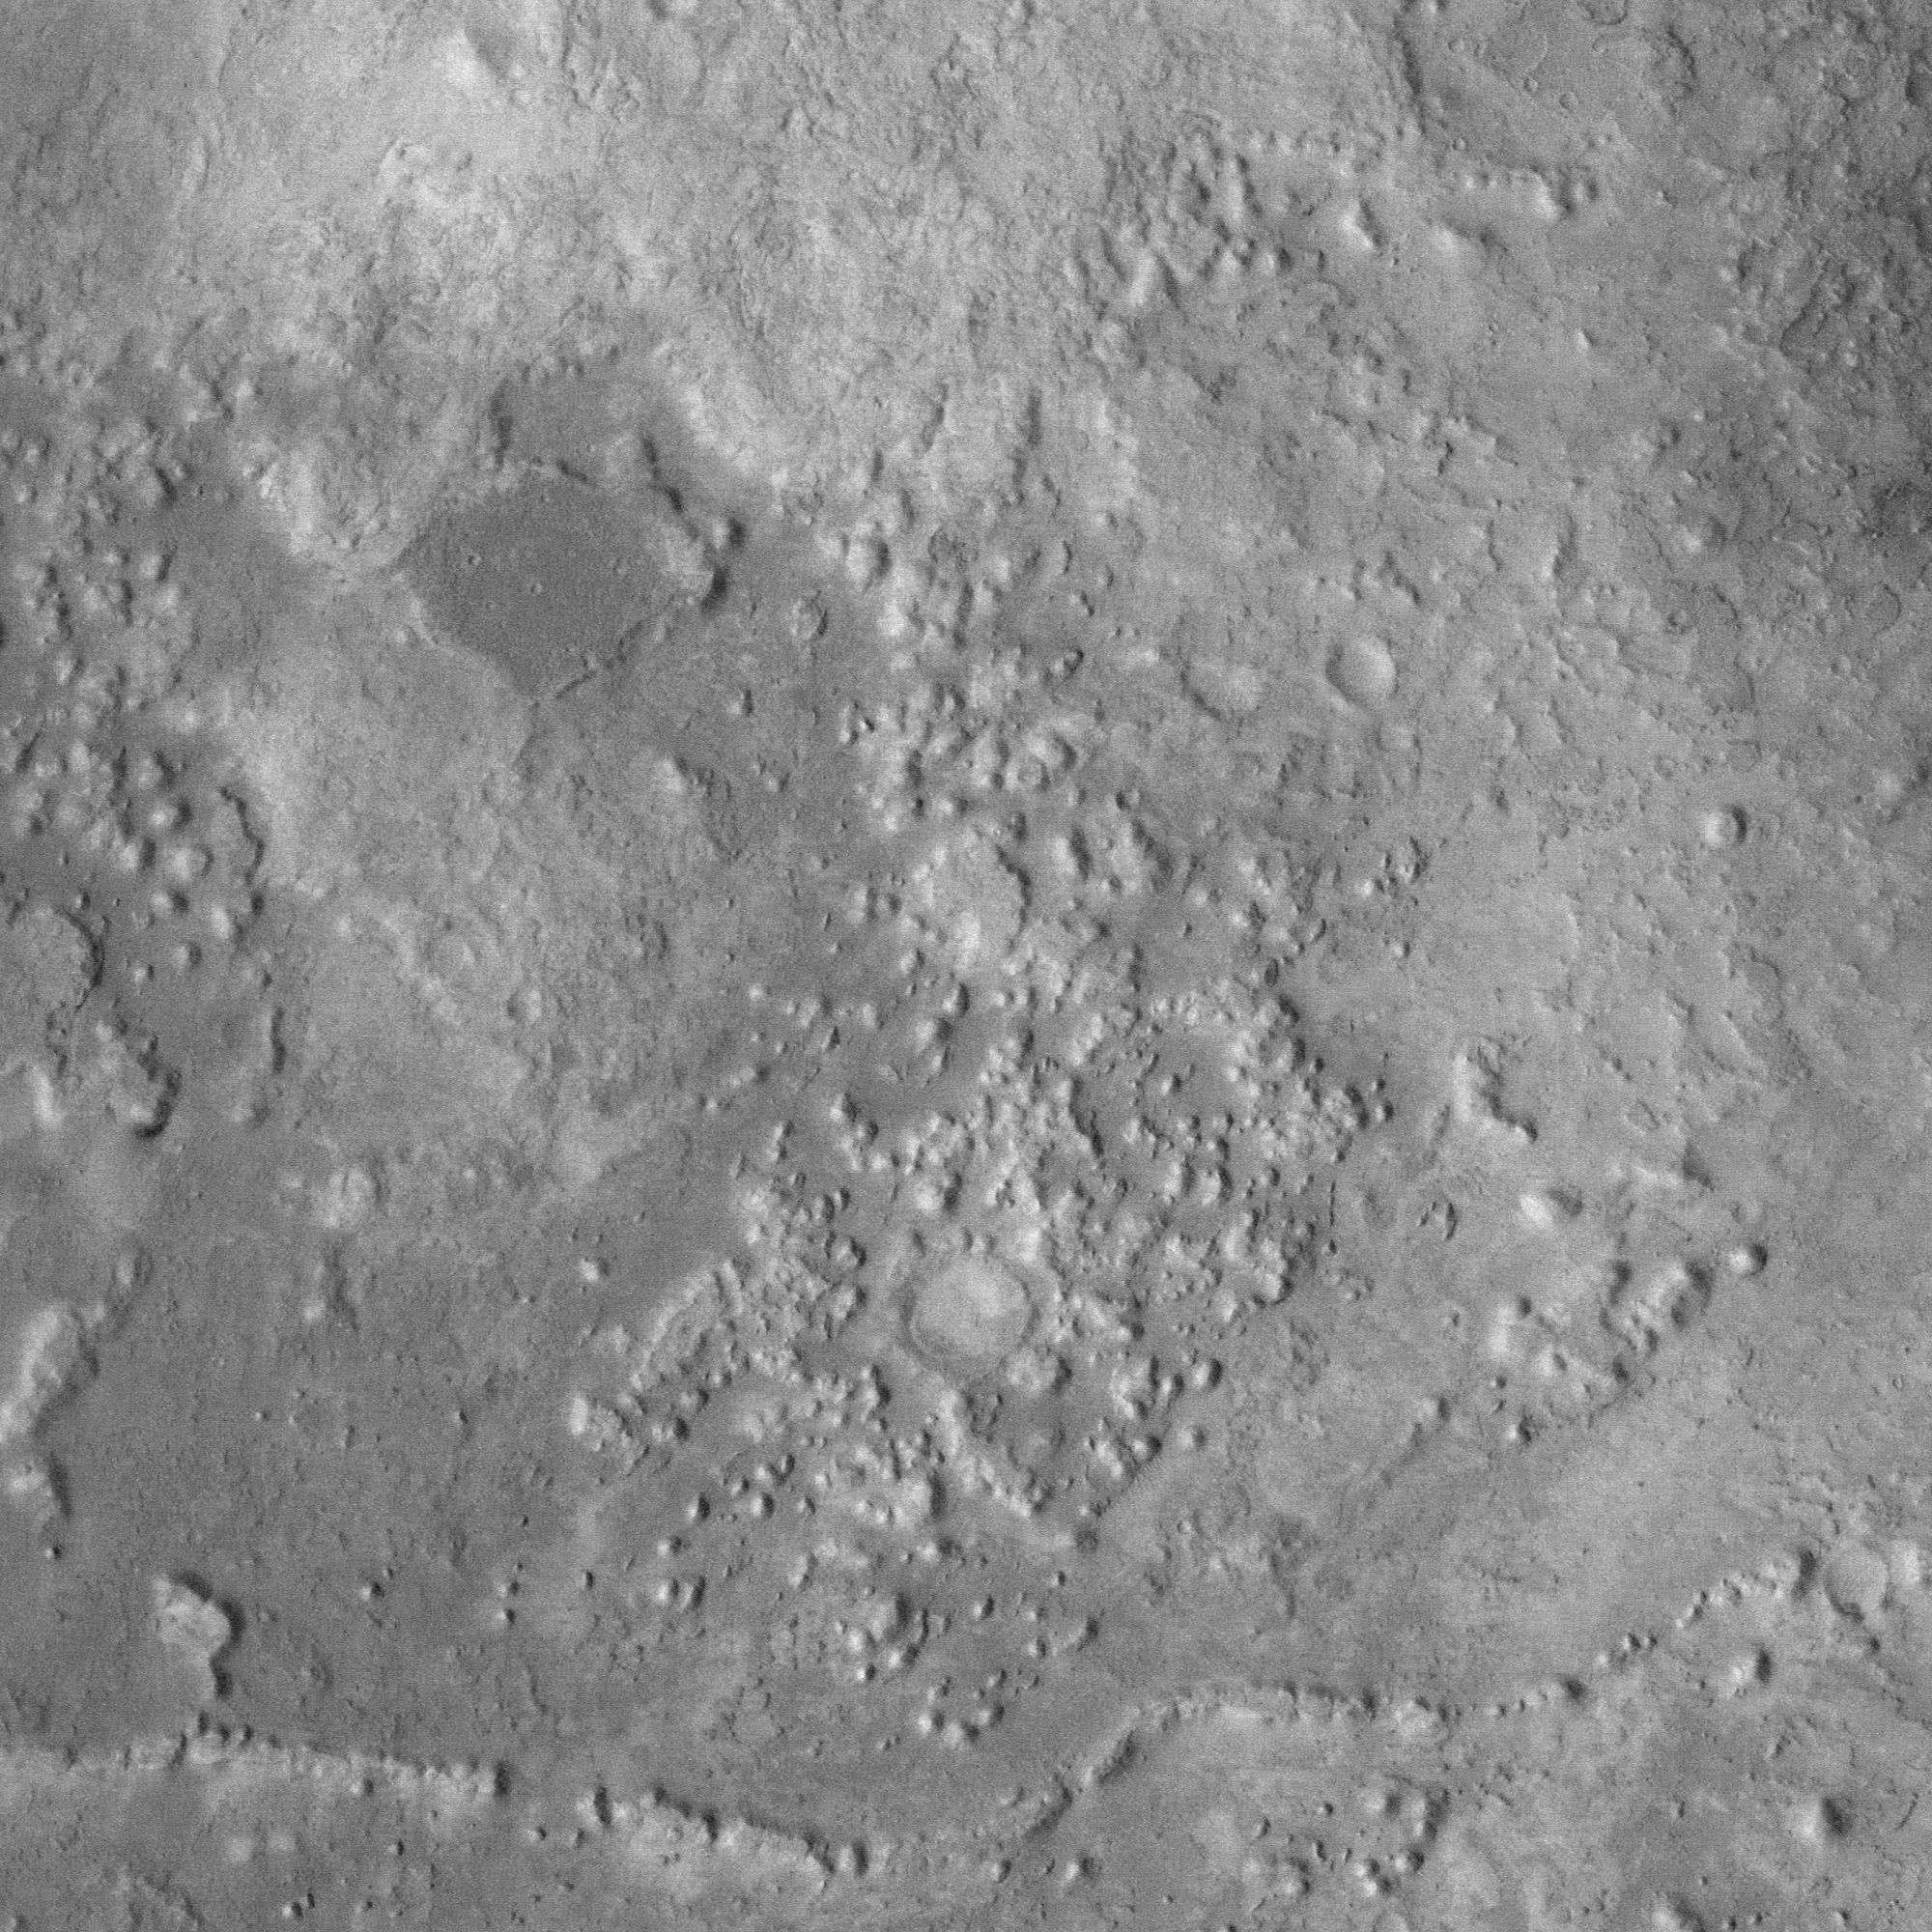crater: (901, 1253, 1028, 1380), (1185, 649, 1265, 729), (1322, 635, 1398, 709), (1822, 1546, 1890, 1614), (1734, 235, 1801, 303), (1702, 801, 1752, 853), (426, 932, 469, 975), (1361, 1192, 1399, 1231), (1729, 1240, 1766, 1277), (508, 989, 541, 1023), (483, 775, 513, 807), (65, 368, 96, 398), (1180, 665, 1210, 695), (1417, 1398, 1447, 1428), (1831, 71, 1858, 97), (582, 1258, 607, 1284), (1115, 789, 1139, 812), (1017, 763, 1042, 786), (1773, 1553, 1796, 1576), (1654, 759, 1675, 780), (1069, 428, 1090, 449), (1507, 1424, 1529, 1445), (1831, 656, 1852, 676), (510, 88, 531, 108), (1559, 92, 1578, 111), (1067, 649, 1086, 669), (1667, 610, 1686, 628), (1467, 1047, 1484, 1065), (784, 119, 801, 136), (803, 492, 821, 510), (363, 1582, 380, 1599), (1750, 165, 1766, 182), (1177, 1518, 1192, 1534), (1447, 39, 1463, 55), (1592, 37, 1608, 53), (784, 110, 800, 126), (5, 713, 21, 729), (442, 1373, 458, 1387), (1523, 78, 1539, 92), (1902, 320, 1916, 336), (1621, 354, 1635, 370), (76, 893, 92, 908), (188, 1530, 202, 1545), (1323, 1242, 1338, 1256), (971, 1828, 984, 1842), (1453, 138, 1465, 152), (846, 168, 858, 182), (1559, 669, 1571, 683), (593, 922, 605, 936), (166, 637, 180, 649), (464, 731, 476, 745), (1454, 1315, 1467, 1329), (46, 1546, 58, 1560), (540, 494, 552, 506), (614, 564, 626, 577), (771, 1369, 784, 1382), (637, 915, 649, 927), (80, 961, 92, 973), (44, 633, 57, 646), (890, 876, 902, 886), (943, 1854, 954, 1867), (469, 554, 479, 566), (639, 932, 649, 945), (796, 1300, 807, 1313), (534, 455, 545, 467), (257, 1610, 267, 1622), (531, 584, 541, 594), (1893, 1378, 1904, 1389), (1854, 794, 1865, 805), (616, 556, 626, 566), (860, 487, 870, 497), (987, 1435, 998, 1445), (395, 1713, 405, 1723), (117, 1651, 127, 1661), (1161, 1895, 1171, 1905), (255, 1410, 265, 1421), (586, 444, 596, 453), (485, 602, 495, 610), (1488, 322, 1497, 333), (241, 9, 251, 18), (320, 1504, 329, 1514), (1299, 1412, 1307, 1422), (720, 1513, 731, 1522), (584, 660, 593, 669), (1458, 1564, 1467, 1573), (1212, 886, 1221, 895), (1134, 318, 1143, 327), (1069, 1665, 1077, 1674), (1016, 1667, 1024, 1675), (617, 637, 626, 646), (1884, 550, 1893, 557), (778, 678, 786, 686), (1500, 1223, 1507, 1231), (1753, 1424, 1760, 1433), (522, 1376, 531, 1384), (566, 550, 573, 557), (1185, 996, 1192, 1003), (1237, 313, 1244, 320), (568, 646, 575, 653), (1737, 1688, 1744, 1695), (497, 625, 504, 632), (699, 948, 706, 955), (1557, 1424, 1564, 1431), (198, 490, 205, 497), (354, 182, 361, 189), (1355, 334, 1362, 341), (1564, 203, 1571, 211), (1815, 1088, 1822, 1095), (1727, 1399, 1734, 1407), (1014, 1688, 1021, 1695), (294, 1120, 301, 1127), (1905, 1346, 1913, 1353), (333, 596, 340, 603), (994, 828, 1000, 835), (1051, 596, 1056, 603), (916, 801, 922, 809), (747, 1392, 752, 1399), (110, 467, 115, 474), (1589, 265, 1594, 272), (1412, 313, 1417, 320), (1490, 55, 1497, 60), (1514, 460, 1520, 467), (1872, 350, 1877, 357), (1819, 1024, 1824, 1031), (1637, 1392, 1644, 1398), (172, 1300, 177, 1307), (1914, 1461, 1920, 1468), (1806, 616, 1812, 621), (823, 775, 828, 780), (616, 1380, 621, 1385), (341, 1629, 347, 1635), (198, 1192, 203, 1198), (214, 1131, 219, 1136), (69, 860, 74, 865), (154, 510, 159, 515), (57, 166, 62, 172), (113, 88, 119, 94), (73, 163, 78, 168), (1067, 177, 1072, 182), (1302, 257, 1307, 262), (1863, 203, 1868, 209), (1591, 290, 1596, 295), (1603, 248, 1608, 253), (1909, 391, 1914, 396), (1355, 1555, 1361, 1560), (1905, 1706, 1911, 1711), (809, 1778, 814, 1783), (1638, 1483, 1644, 1488), (741, 1541, 747, 1546), (1001, 747, 1007, 750), (249, 579, 255, 582), (184, 83, 188, 88), (973, 299, 978, 303), (1897, 193, 1902, 196), (1851, 879, 1854, 885), (1458, 1789, 1463, 1792), (140, 69, 143, 73), (1042, 1798, 1046, 1801), (320, 1106, 324, 1109), (357, 1116, 361, 1120), (223, 1300, 226, 1304), (255, 1251, 258, 1254), (255, 906, 258, 909), (835, 69, 839, 73), (1652, 950, 1656, 954), (1336, 145, 1338, 149), (175, 679, 179, 681), (931, 74, 932, 78)
